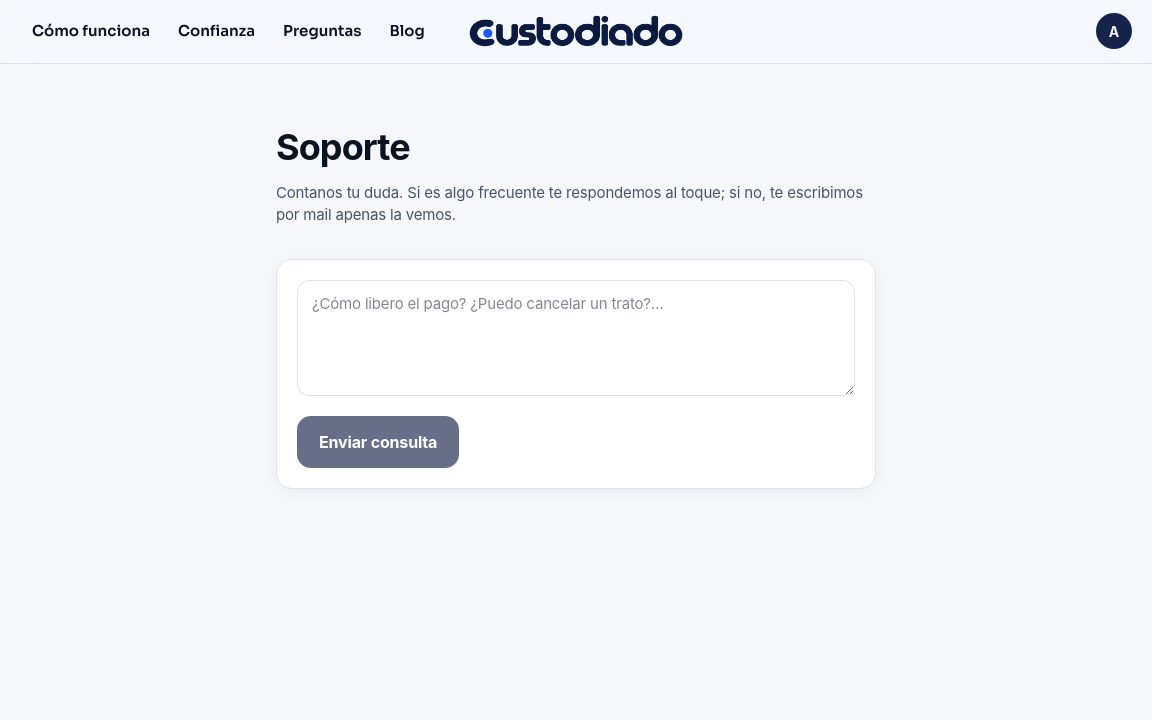
Test: SoporteView › shows the FAQ answer immediately when the question matches
The image size is (1152, 720).
Type "¿Cómo libero el pago?" into the text box with placeholder "¿Cómo libero el pago? ¿Puedo cancelar un trato?…" at {"x": 576, "y": 338}, box [297,280,855,396]
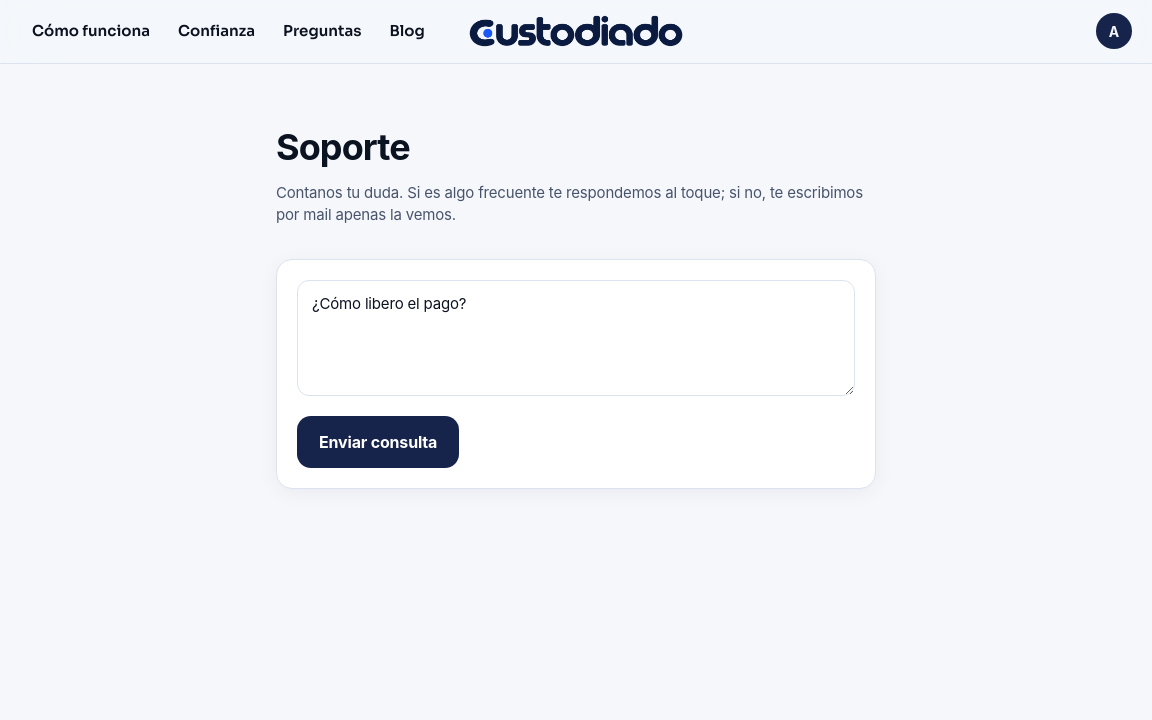
Click the button "Enviar consulta" at {"x": 378, "y": 442}, box [297,416,459,468]
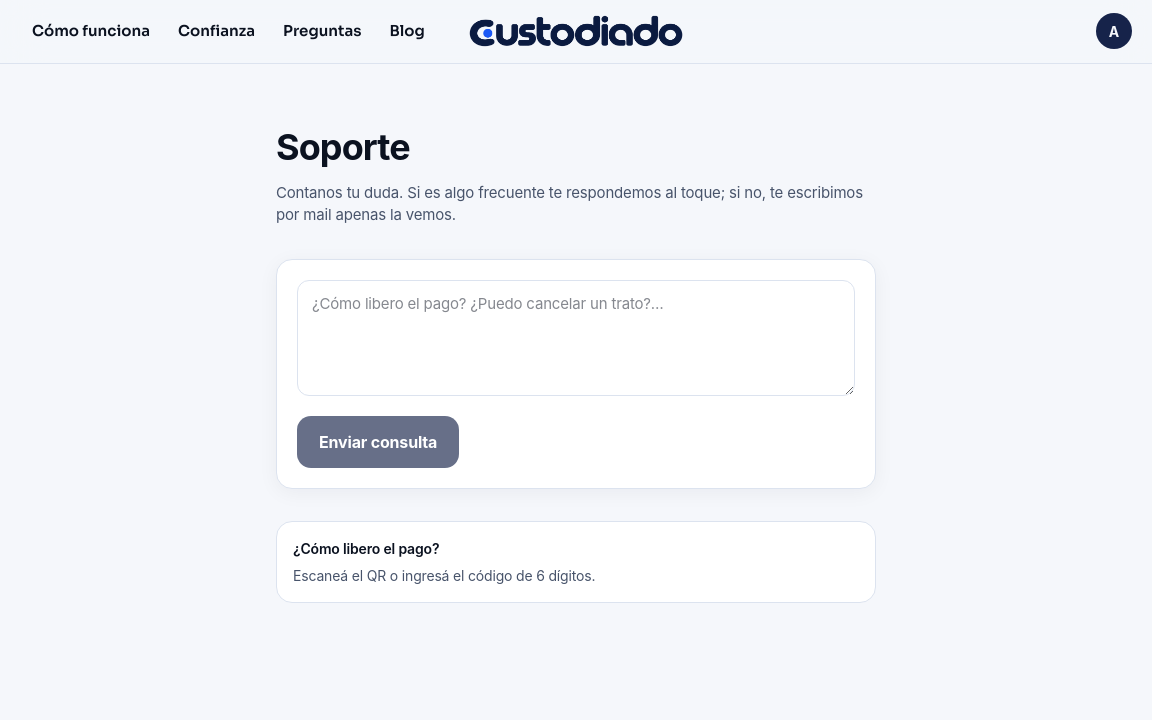
Now the text "Escaneá el QR o ingresá el código de 6 dígitos." is shown, box [293,566,595,584]
